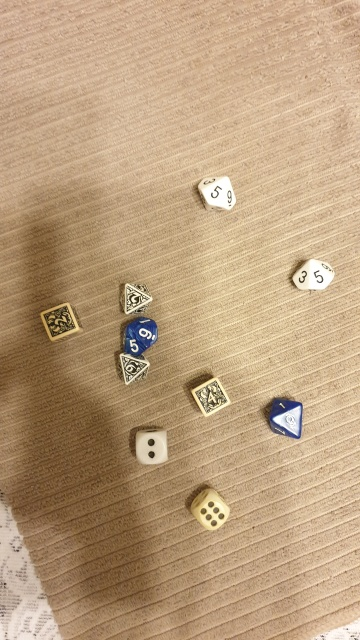d10-5: (194, 163, 241, 220), (287, 254, 340, 297)
d10-6: (251, 390, 305, 437)
d10-9: (110, 313, 172, 360)
d6-2: (132, 426, 174, 467)
d6-6: (187, 483, 232, 538)
d6p-2: (39, 304, 85, 344)
d6p-4: (188, 372, 232, 422)
d8p-2: (117, 283, 156, 318)
d8p-6: (116, 348, 152, 393)
